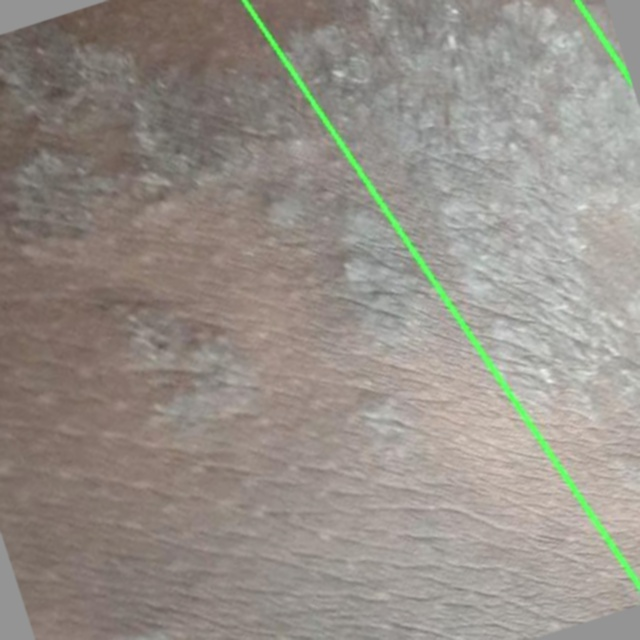Tinea Corporis: (242, 0, 639, 639)
